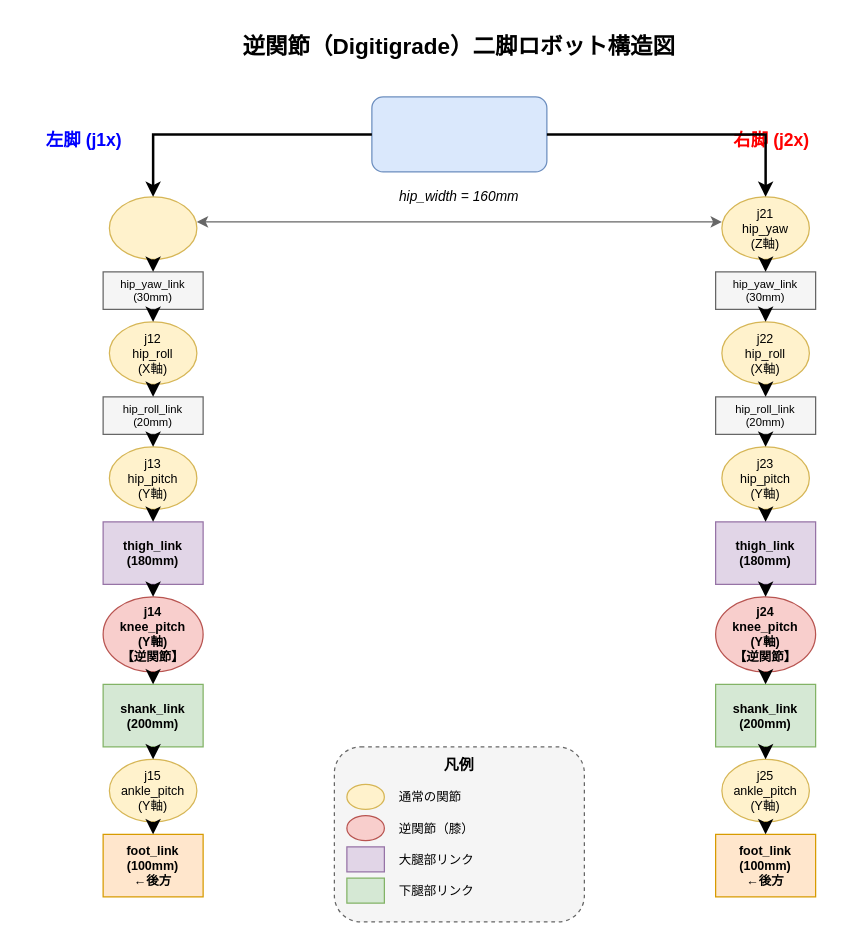
This 855x944 diagram has some shape labels left out. The shapes that lost their labels are listed below. From the top down, each one's centre as x and y in pixels, then its label:
pixel 459 134: base_link (胴体)
pixel 152 227: j11 hip_yaw (Z軸)
